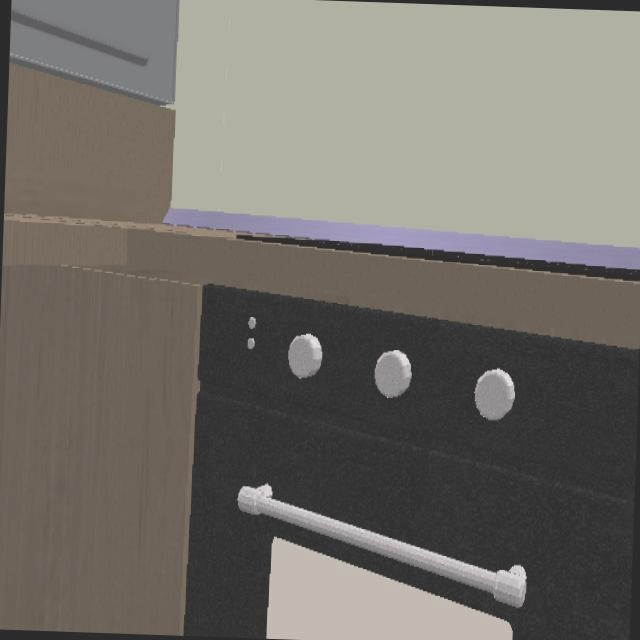oven: (145, 262, 639, 640)
